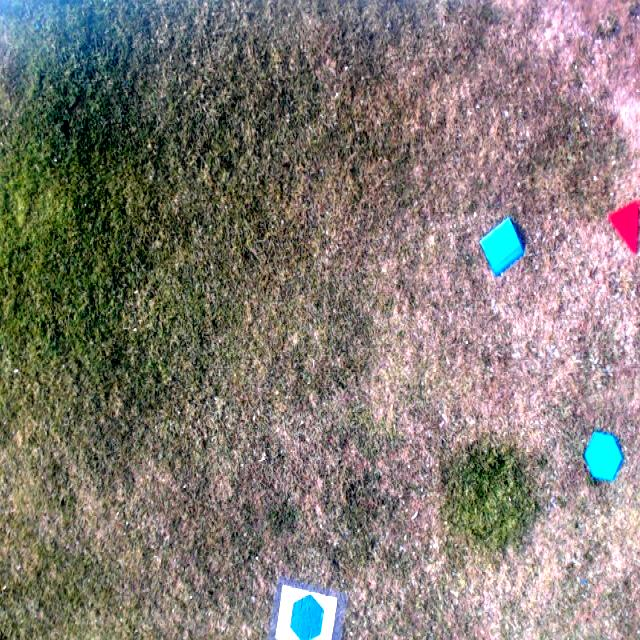blue_hexagon: (584, 430, 622, 480)
blue_square: (482, 216, 525, 276)
red_triangle: (608, 196, 639, 255)
